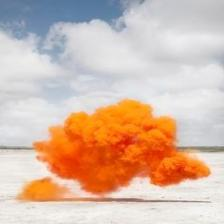orange: (33, 100, 211, 193)
